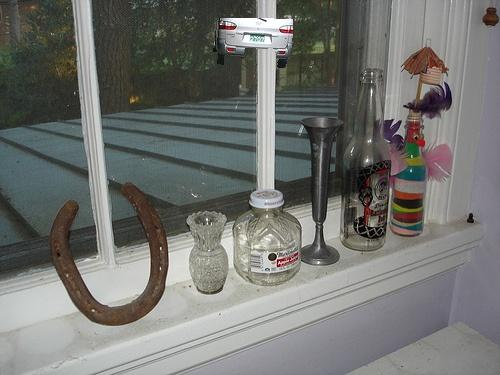tampered: (214, 19, 293, 68)
